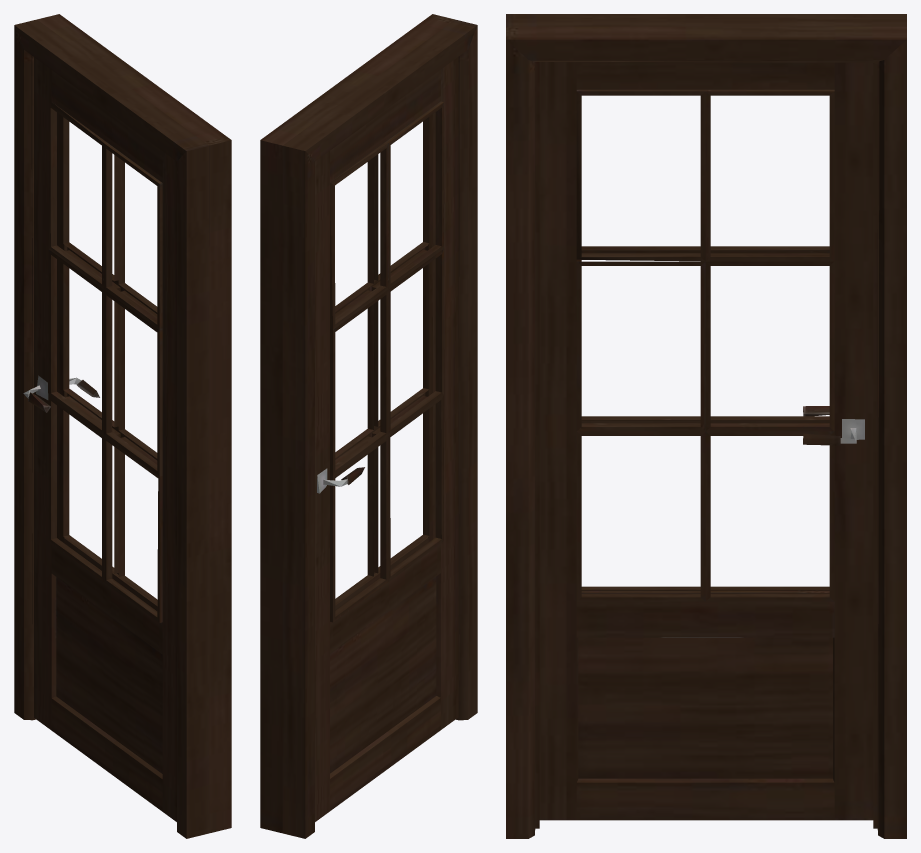
File: Door0023.obj
3 views of the same model, side by side, from view 1: azimuth 30°, elevation 25°; view 2: azimuth 150°, elevation 25°; view 3: azimuth 270°, elevation 25° (orthographic). The views are drawn at different scales.
Size of the model in its own units: 0.195 by 2.12 by 0.964.
Materials: 1 (1 with a texture image).
